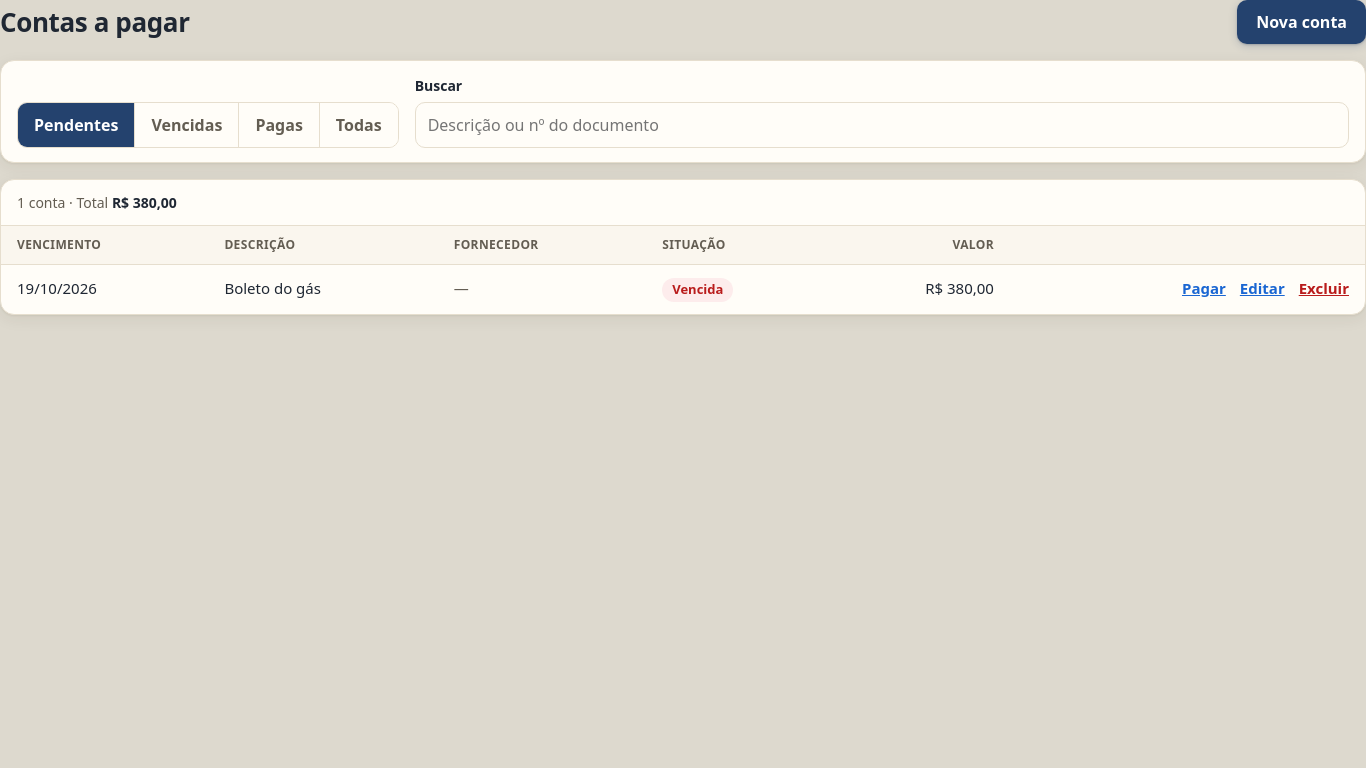
Test: Contas a pagar › traduz o erro de validação do backend dizendo qual campo
What coordinates should you click on to do the following:
click the button with aria-label "Pagar Boleto do gás"
I would click on:
 (1204, 288)
Its box is [1182,277,1226,300].
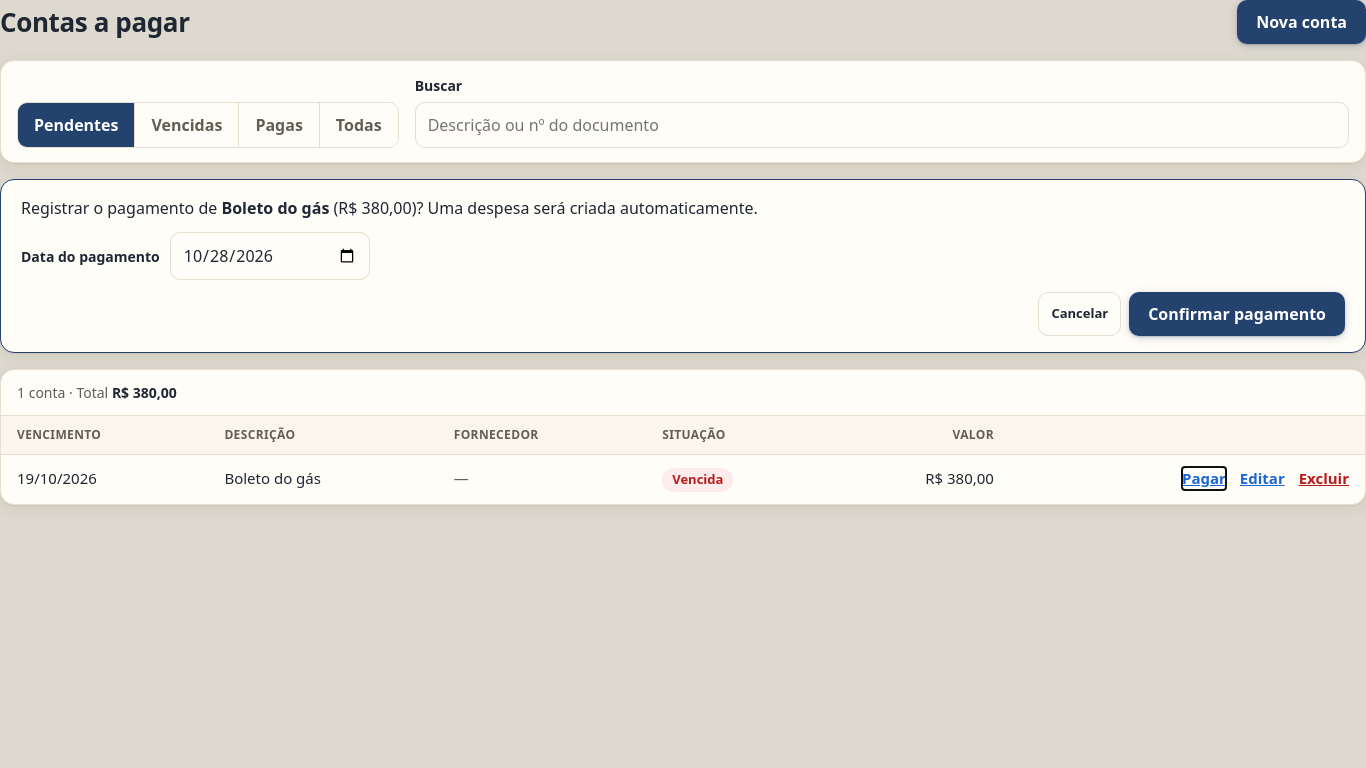
What coordinates should you click on to do the following:
click the button "Confirmar pagamento"
I would click on:
 (1237, 314)
Its box is [1129,292,1345,336].
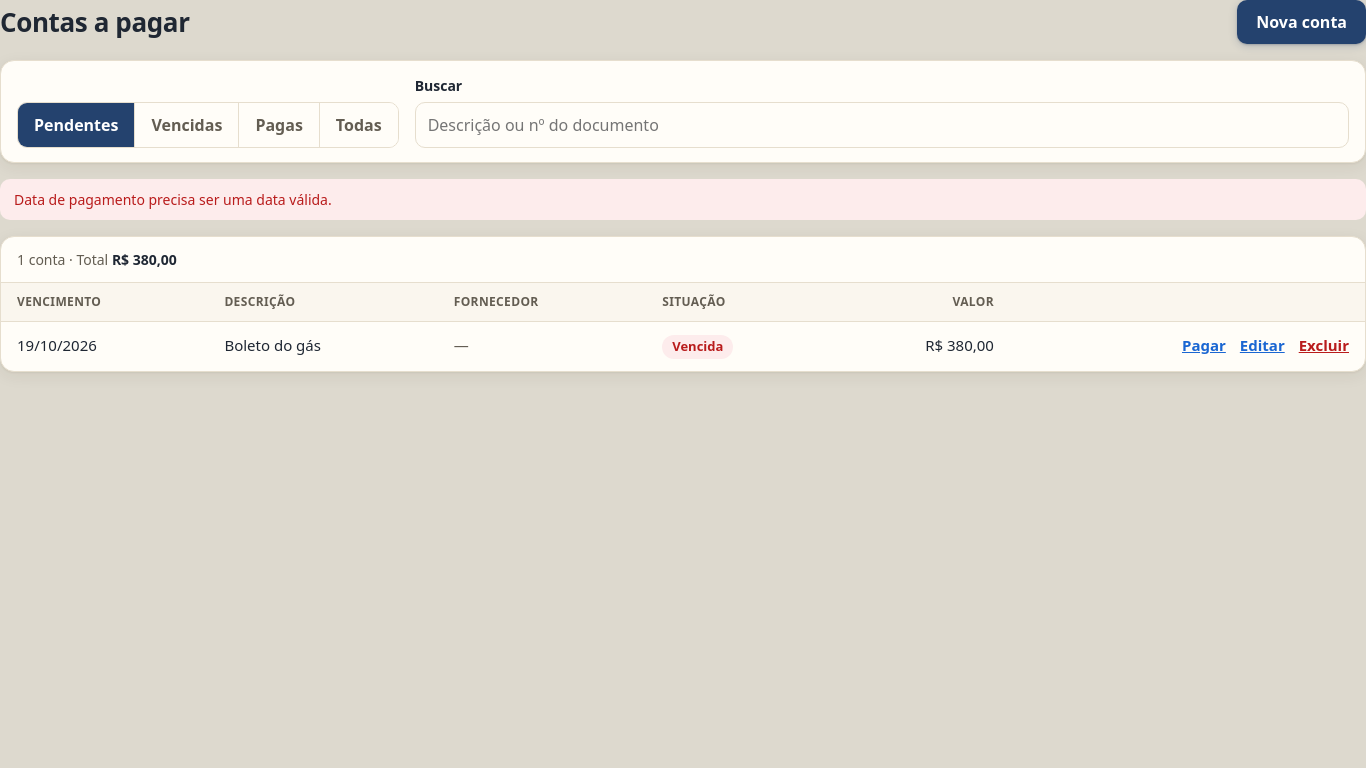
Now the message reads "Data de pagamento precisa ser uma data válida.", box [14,190,332,209]
